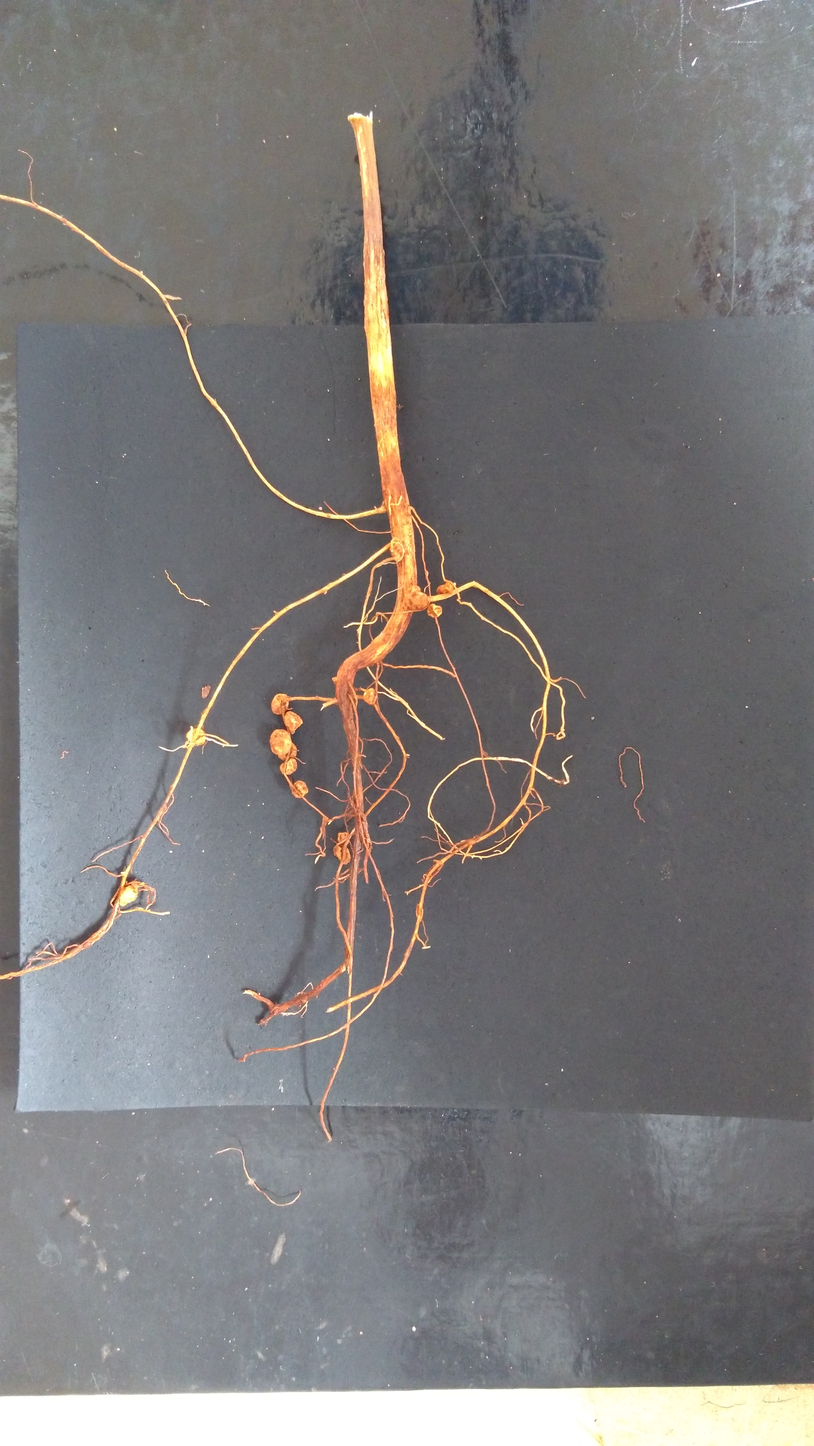nodule: (405, 585, 428, 611), (269, 729, 292, 755), (284, 711, 303, 735), (119, 883, 138, 906), (333, 842, 351, 865), (271, 693, 289, 715), (390, 536, 405, 562), (185, 728, 206, 746), (278, 742, 297, 761), (291, 780, 309, 798), (279, 758, 297, 775), (363, 688, 376, 705), (436, 582, 454, 594), (427, 604, 442, 618), (337, 832, 351, 845), (415, 903, 424, 922), (332, 676, 337, 682), (318, 507, 322, 510), (453, 582, 456, 586)
